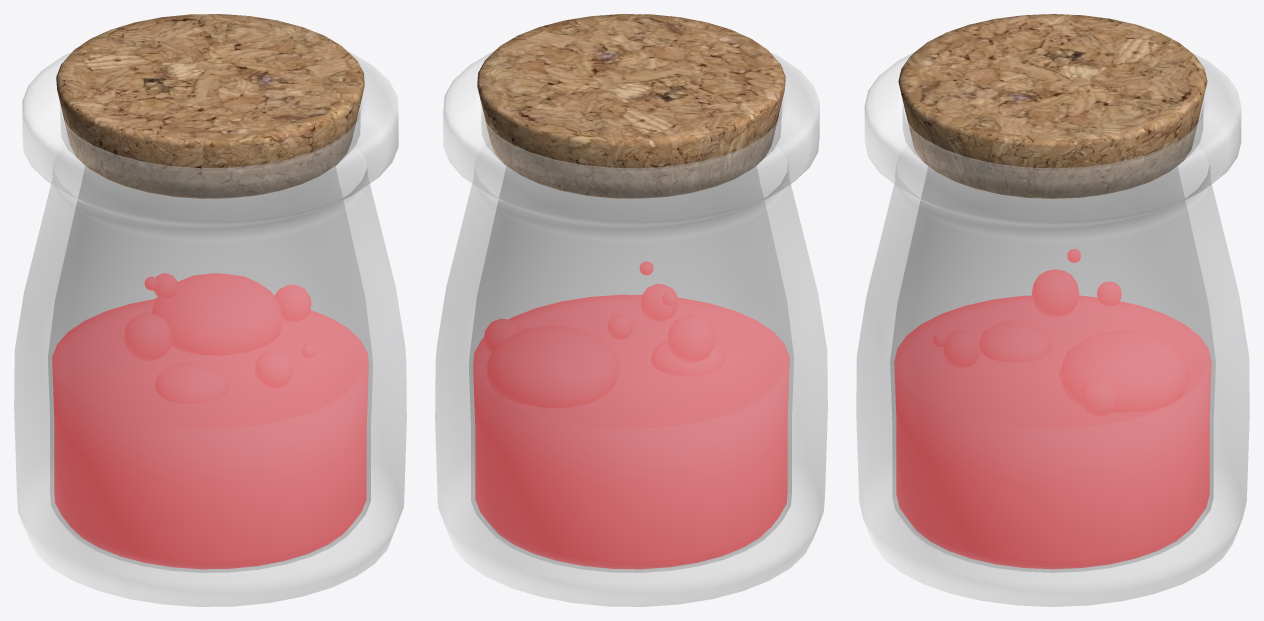
The model's file is potionRed.glb.
3 renders of one model, left to right at view 1: azimuth 30°, elevation 25°; view 2: azimuth 150°, elevation 25°; view 3: azimuth 270°, elevation 25°, orthographic.
Parts seen in each view (by area): view 1: Bottle Exterior_1, Bottle Interior_5, Liquid_4, Cork_3, Cube.001_7, Cube.004_10, Cube_6, Cube.006_12, Cube.003_9; view 2: Bottle Exterior_1, Bottle Interior_5, Liquid_4, Cork_3, Cube.001_7, Cube_6, Cube.004_10, Cube.006_12, Cube.003_9; view 3: Bottle Exterior_1, Bottle Interior_5, Liquid_4, Cork_3, Cube.001_7, Cube.004_10, Cube_6, Cube.003_9, Cube.006_12.
Part boxes in pixels (x1,y1,x2,y2): Bottle Exterior_1: (14,51,406,606); Bottle Interior_5: (48,106,372,572); Liquid_4: (52,299,368,569); Cork_3: (56,14,364,198); Cube.001_7: (151,273,283,355); Cube.004_10: (154,362,228,404); Cube_6: (124,313,171,361); Cube.006_12: (254,350,292,388); Cube.003_9: (274,284,311,322); Bottle Exterior_1: (435,51,827,606); Bottle Interior_5: (469,106,793,572); Liquid_4: (473,294,789,569); Cork_3: (477,14,785,198); Cube.001_7: (486,325,619,407); Cube_6: (667,315,715,362); Cube.004_10: (651,339,724,376); Cube.006_12: (640,284,678,321); Cube.003_9: (484,318,520,352); Bottle Exterior_1: (856,52,1249,606); Bottle Interior_5: (890,106,1215,572); Liquid_4: (894,295,1211,569); Cork_3: (898,14,1207,198); Cube.001_7: (1059,330,1190,412); Cube.004_10: (979,320,1051,362); Cube_6: (1031,269,1079,317); Cube.003_9: (1080,378,1118,416); Cube.006_12: (943,330,980,367).
Size of the model in its own units: 5.2 by 6.59 by 5.2.
4 materials, 1 textured.
